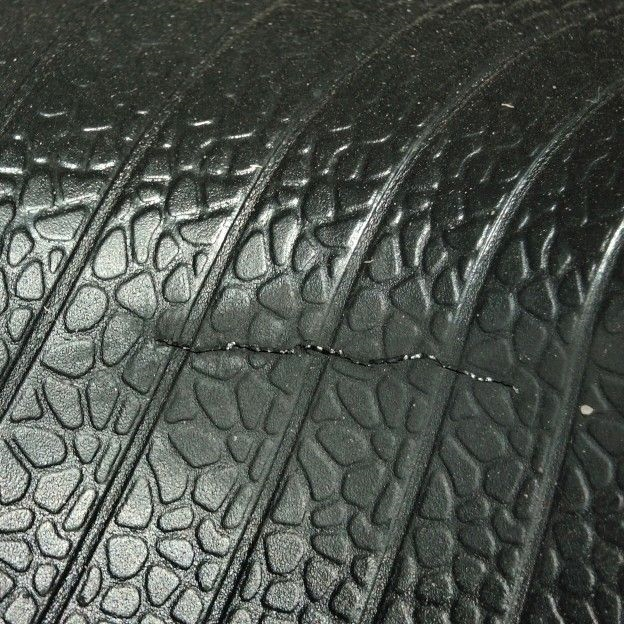CBU: (146, 330, 519, 393)
